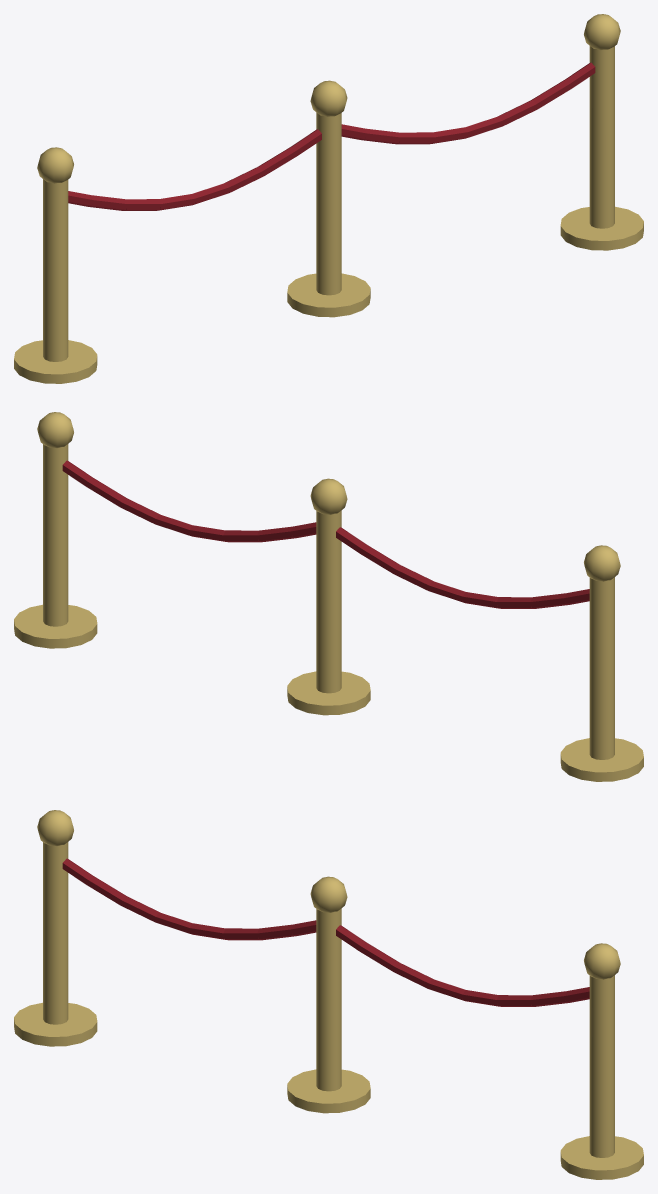
The model's file is velvet-rope.glb.
3 renders of one model, top to bottom at view 1: azimuth 30°, elevation 25°; view 2: azimuth 150°, elevation 25°; view 3: azimuth 330°, elevation 25°, orthographic.
Parts seen in each view (by area): view 1: part-brass, part-rope; view 2: part-brass, part-rope; view 3: part-brass, part-rope.
Part boxes in pixels (bbox=[...]): part-brass: bbox=[14, 14, 643, 383]; part-rope: bbox=[68, 62, 595, 210]; part-brass: bbox=[14, 412, 643, 781]; part-rope: bbox=[62, 460, 589, 608]; part-brass: bbox=[14, 810, 643, 1179]; part-rope: bbox=[62, 858, 589, 1006].
Bounding box in the file's own units: 68 × 22.8 × 8.
